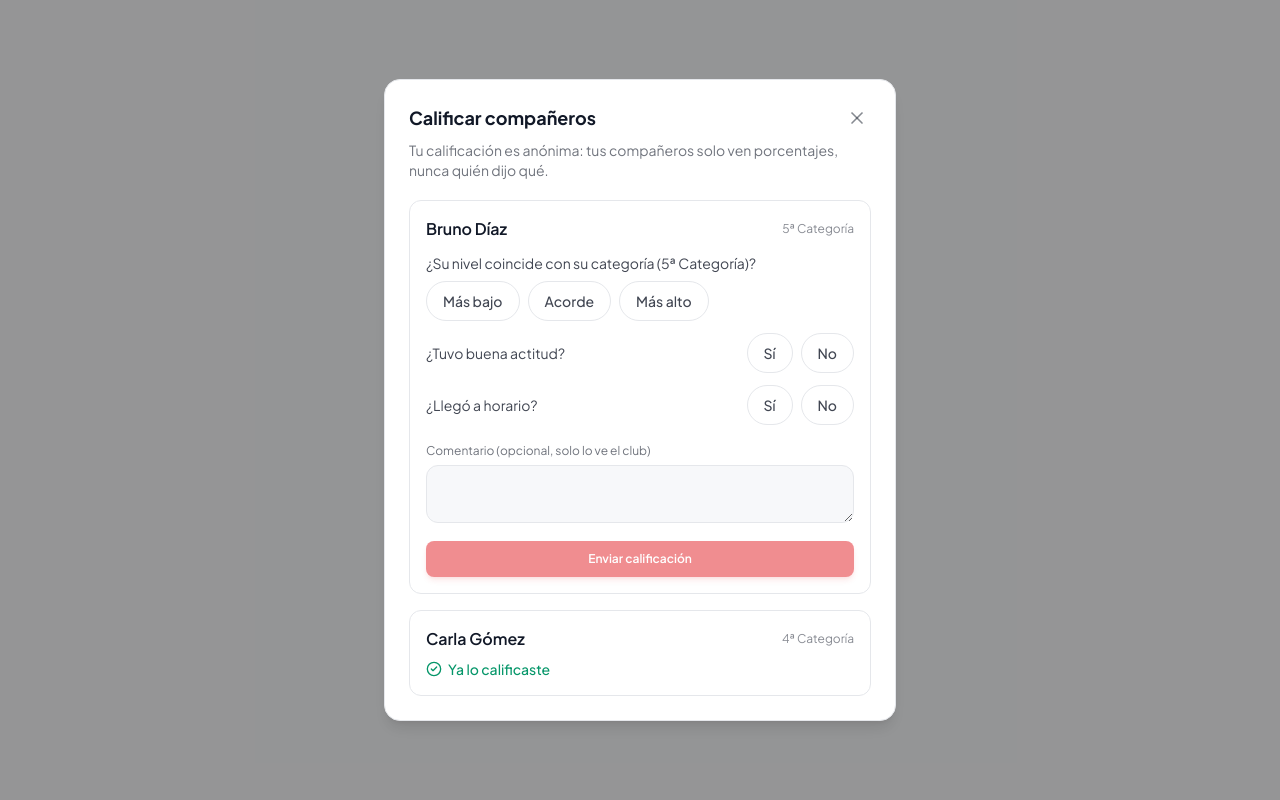
ReviewTeammatesModal › no deja enviar hasta responder las tres preguntas
Expected: the button "Enviar calificación" is disabled, left=426, top=541, right=854, bottom=577
Click the button "Más bajo" at point(473, 301), box left=426, top=281, right=520, bottom=321
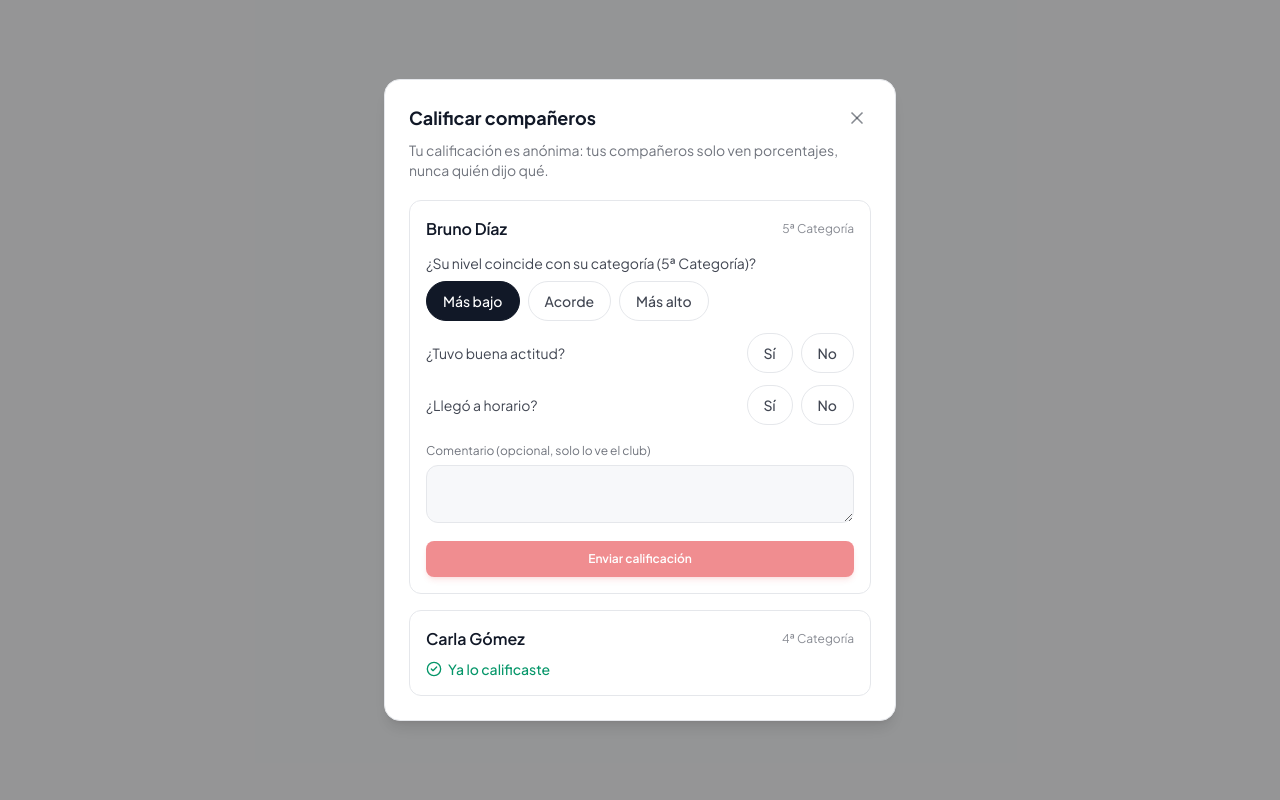
Click the button "Sí" in the row of "¿Tuvo buena actitud?" at point(770, 353), box left=746, top=333, right=792, bottom=373
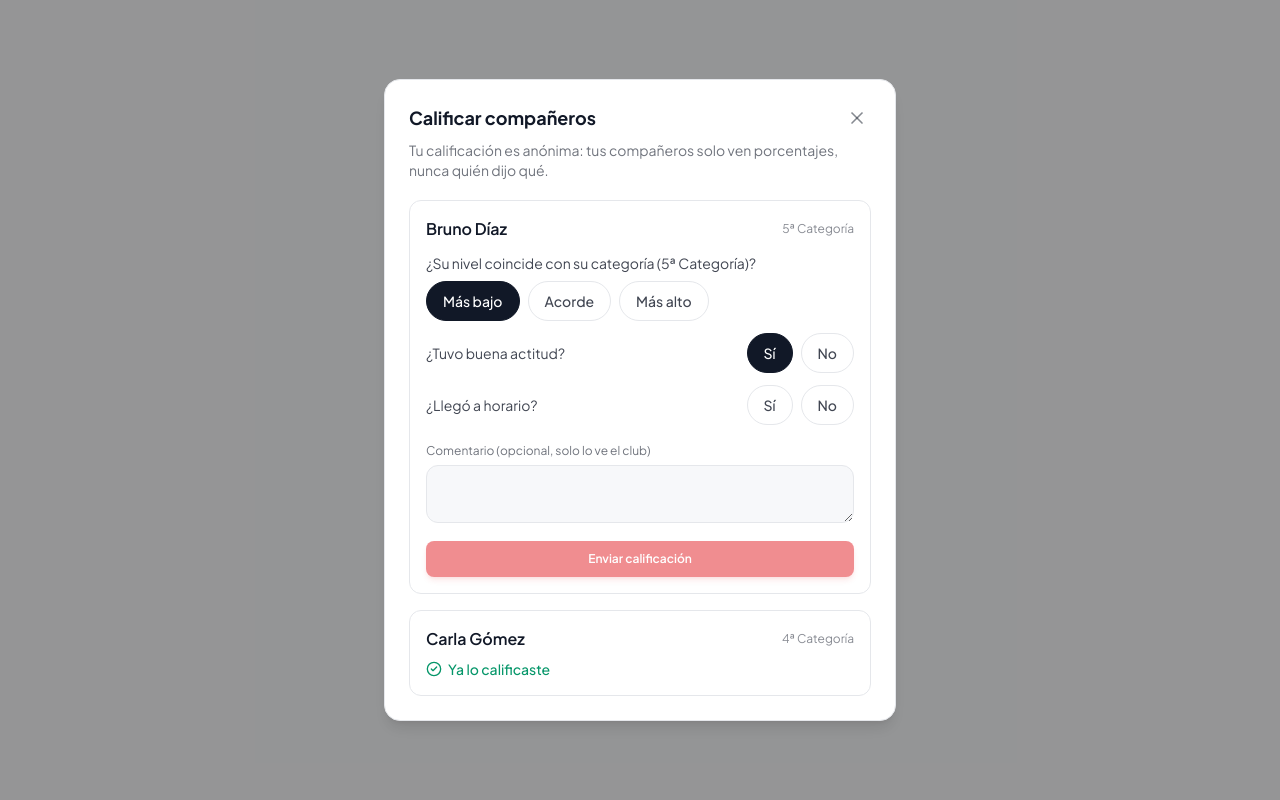
Expected: the button "Enviar calificación" is disabled, left=426, top=541, right=854, bottom=577
Click the button "No" in the row of "¿Llegó a horario?" at point(827, 405), box left=800, top=385, right=854, bottom=425
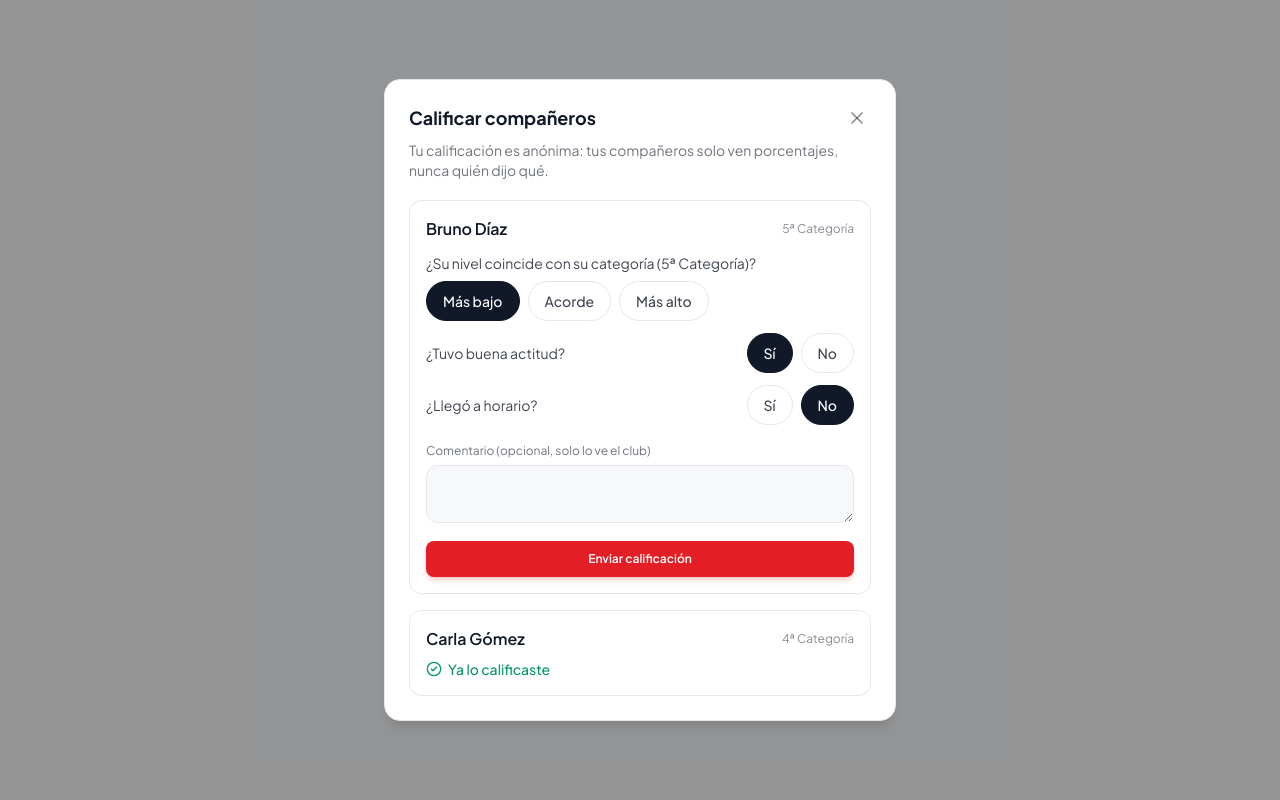
Expected: the button "Enviar calificación" is enabled, left=426, top=541, right=854, bottom=577
